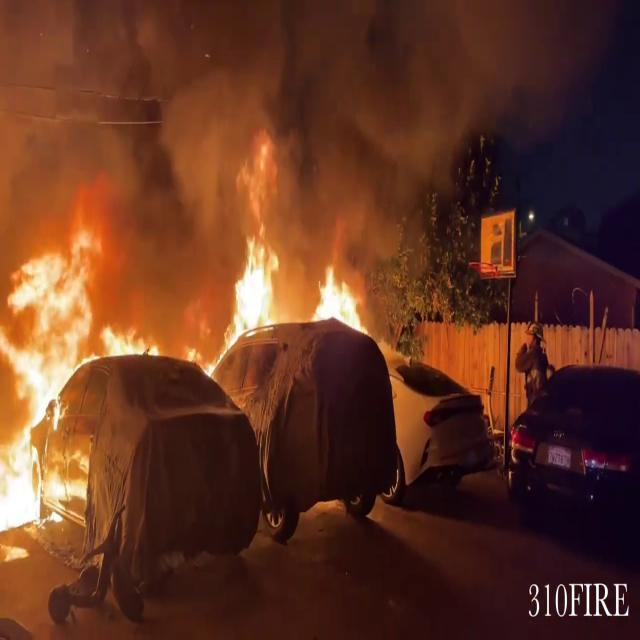Fire: (0, 216, 140, 540), (214, 226, 282, 353), (308, 262, 370, 338)
Smoke: (1, 0, 482, 240)
